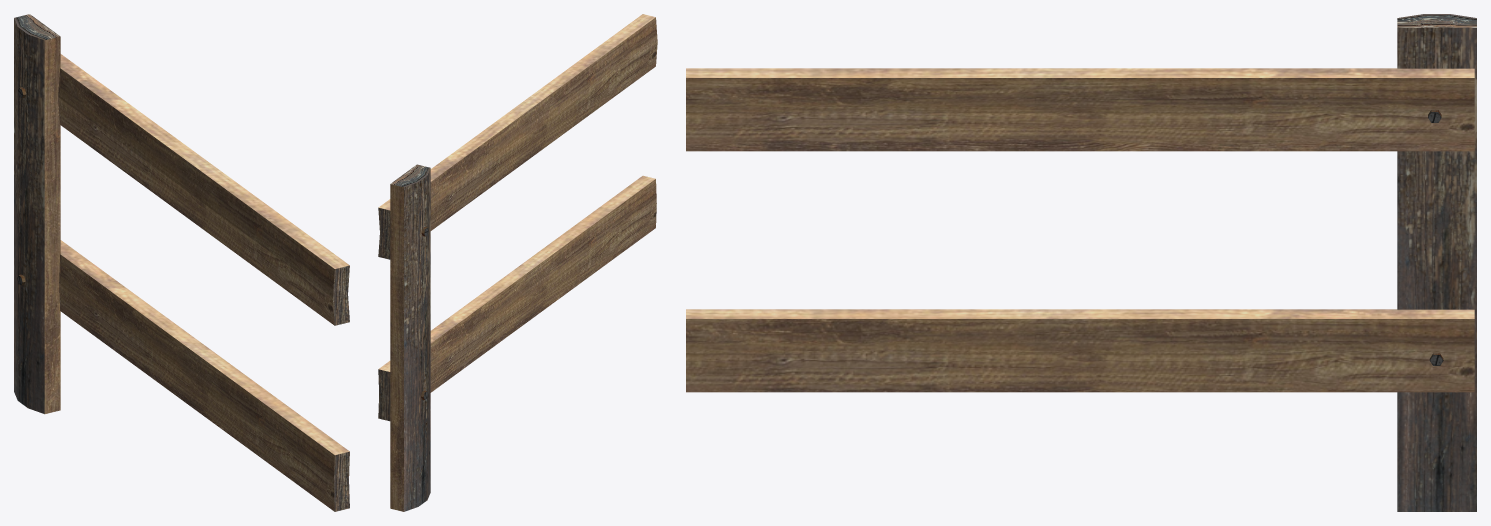
The model's file is rural_wood_fence_1.obj.
3 renders of one model, left to right at view 1: azimuth 30°, elevation 25°; view 2: azimuth 150°, elevation 25°; view 3: azimuth 270°, elevation 25°, orthographic. The views are drawn at different scales.
Parts seen in each view (by area): view 1: rural_wood_fence_1; view 2: rural_wood_fence_1; view 3: rural_wood_fence_1.
Part boxes in pixels (x1,y1,x2,y2): rural_wood_fence_1: [14, 14, 349, 511]; rural_wood_fence_1: [378, 14, 657, 511]; rural_wood_fence_1: [686, 14, 1476, 511].
Size of the model in its own units: 0.1509 by 1.28 by 1.9.
1 material, 1 textured.
